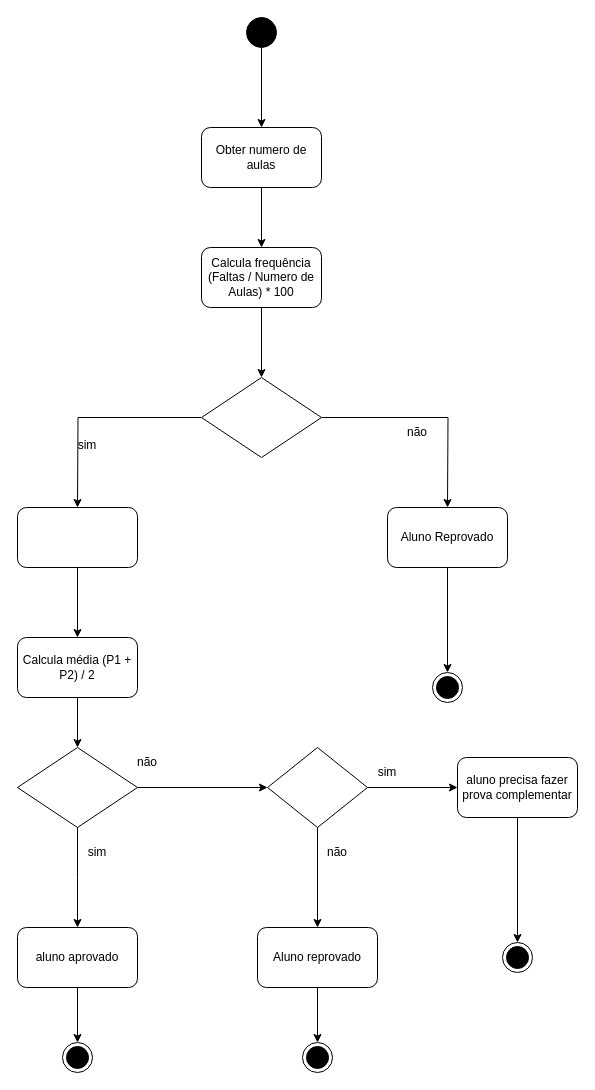
Image size: 595x1090. Some labels were removed from this diagram. The centre of each missing label's shape, as x and y in pixels:
"Frequencia >=75%?" belongs at [261,417].
"media > 7?" belongs at [77,787].
"media >= 5?" belongs at [317,787].
"Obter notas P1 e P2" belongs at [77,537].
